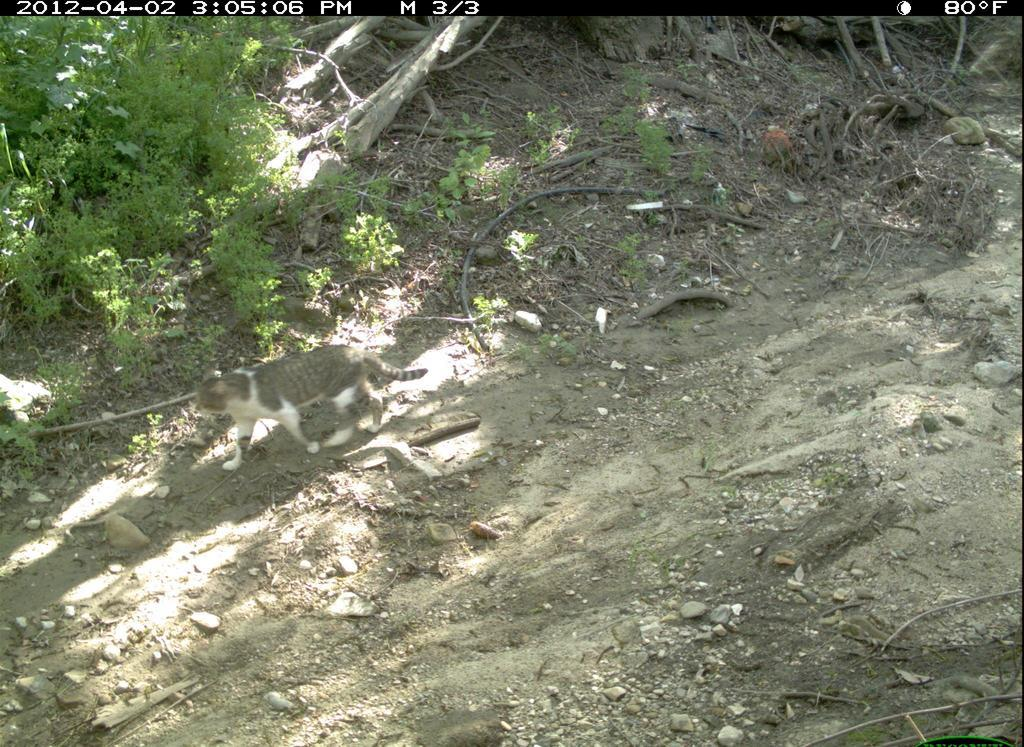cat: (185, 338, 428, 473)
